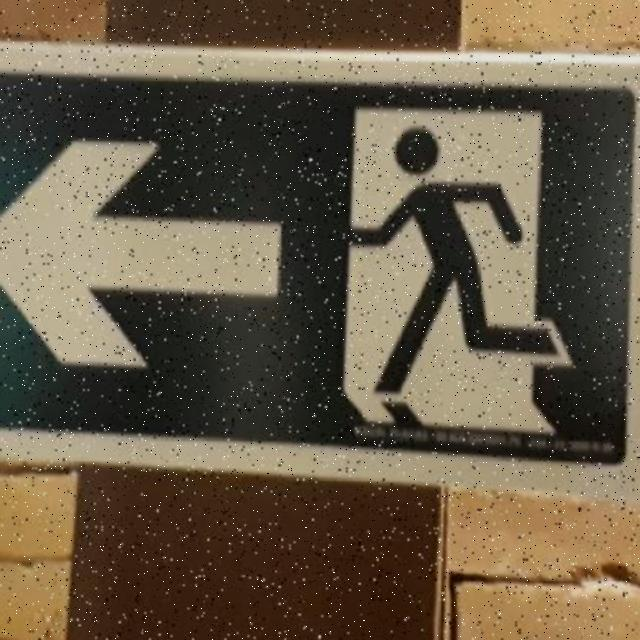emergency_exit: (1, 62, 637, 470)
